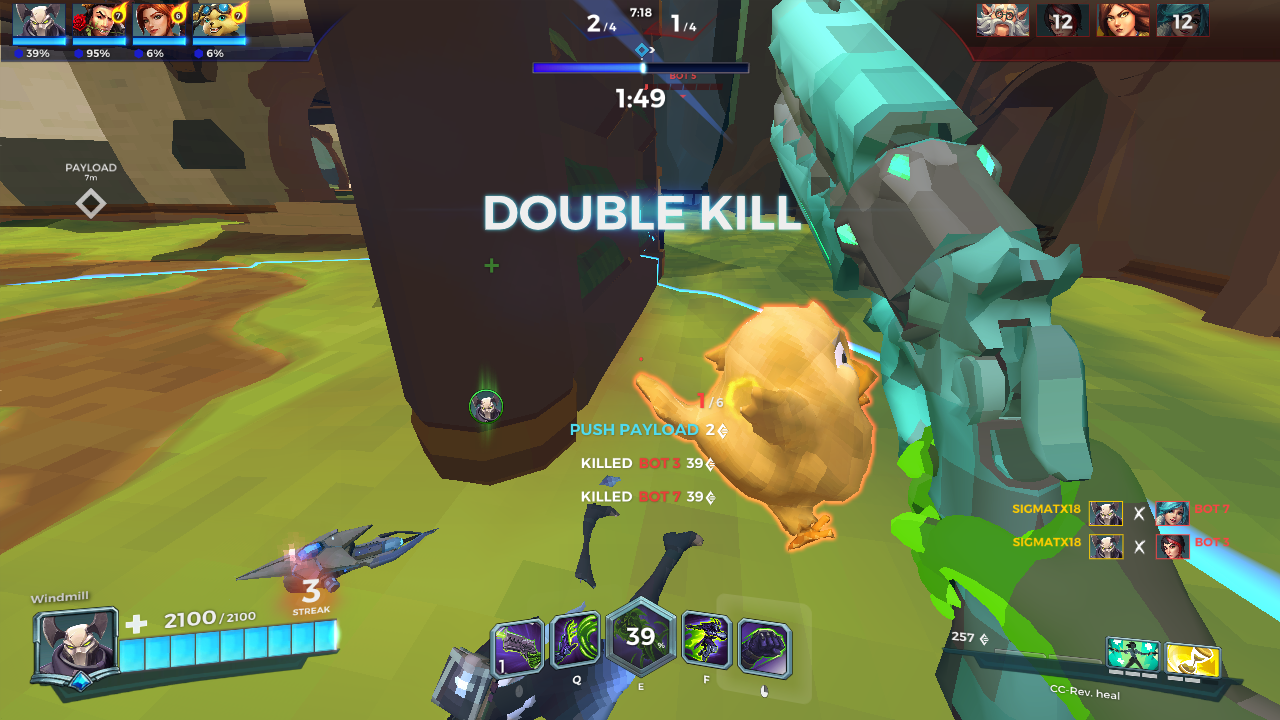model: (631, 296, 878, 551)
